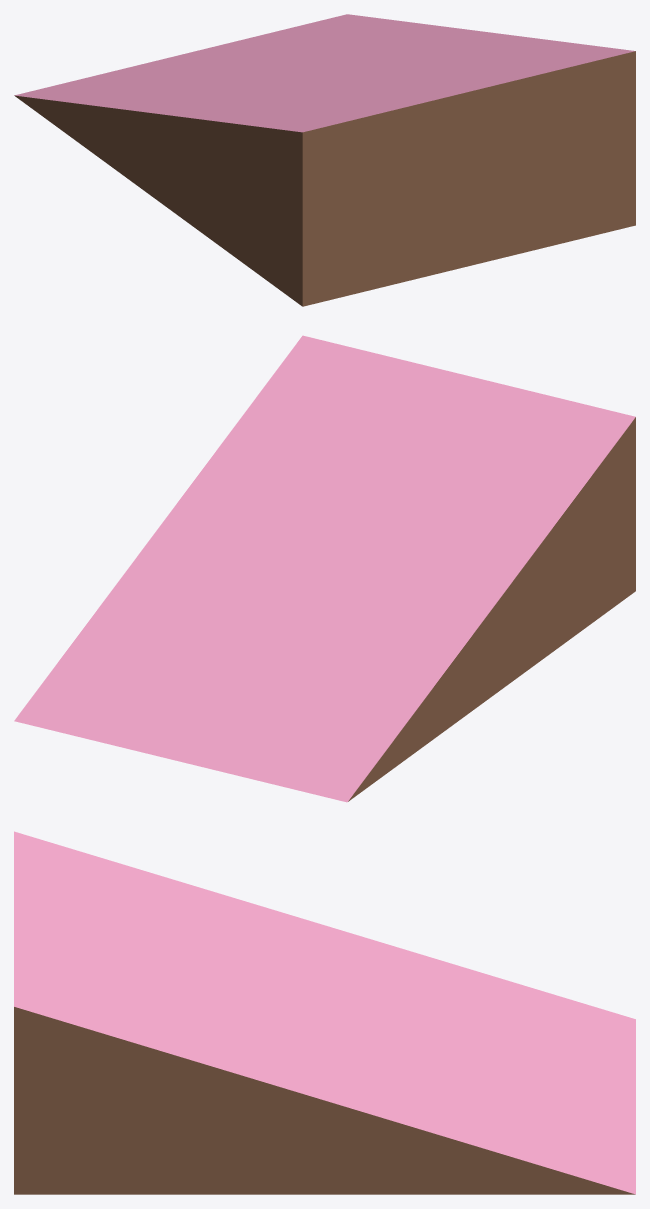
Rendered from candy_ramp.glb.
3 views of the same model, one above another, from view 1: azimuth 30°, elevation 25°; view 2: azimuth 150°, elevation 25°; view 3: azimuth 270°, elevation 25° (orthographic). The views are drawn at different scales.
Parts seen in each view (by area): view 1: ramp; view 2: ramp; view 3: ramp.
Part boxes in pixels (x1,y1,x2,y2): ramp: [14, 14, 635, 306]; ramp: [14, 335, 635, 802]; ramp: [14, 831, 635, 1194].
Size of the model in its own units: 4.8 by 2.4 by 7.2.
